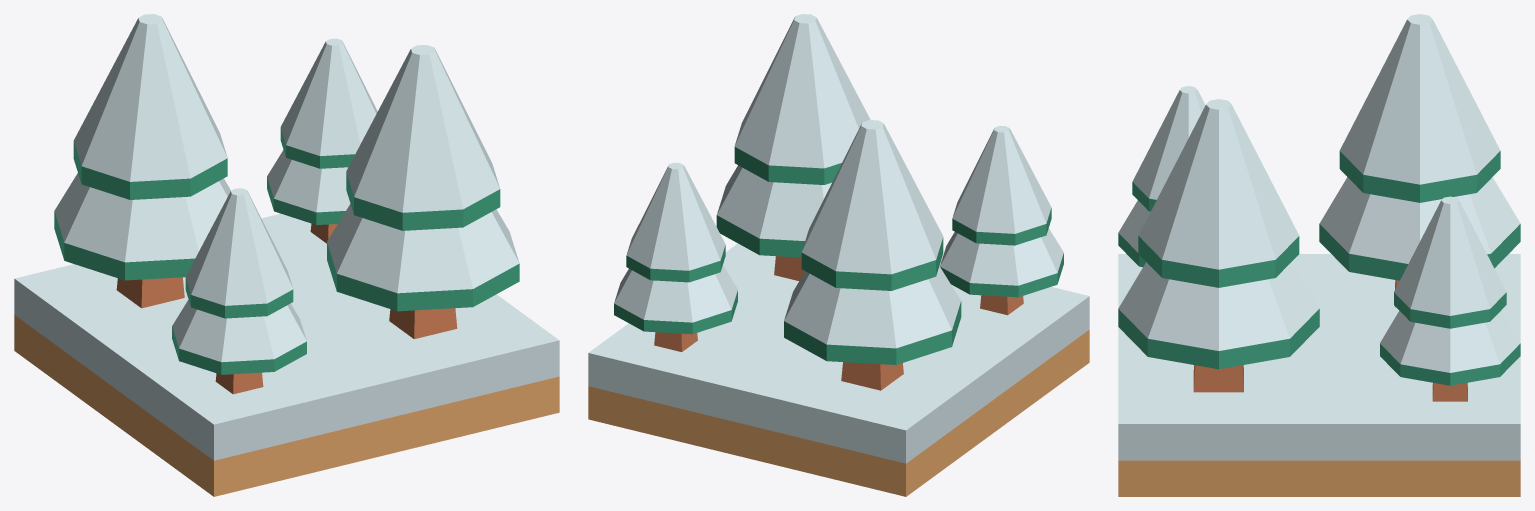
File: snow_tile_treeQuad.dae
The picture shows the model from 3 angles, left to right: view 1: azimuth 30°, elevation 25°; view 2: azimuth 150°, elevation 25°; view 3: azimuth 270°, elevation 25°; orthographic projection. The views are drawn at different scales.
Visible parts, largest first — view 1: tree (×4), snow_tile_treeQuad; view 2: tree (×4), snow_tile_treeQuad; view 3: tree (×4), snow_tile_treeQuad.
Part boxes in pixels (x1,y1,x2,y2): tree (×4): [54, 14, 519, 394]; snow_tile_treeQuad: [14, 213, 559, 496]; tree (×4): [614, 14, 1063, 390]; snow_tile_treeQuad: [588, 243, 1089, 496]; tree (×4): [1118, 14, 1520, 401]; snow_tile_treeQuad: [1118, 254, 1520, 496].
Bounding box in the file's own units: 1 × 0.96 × 1.
